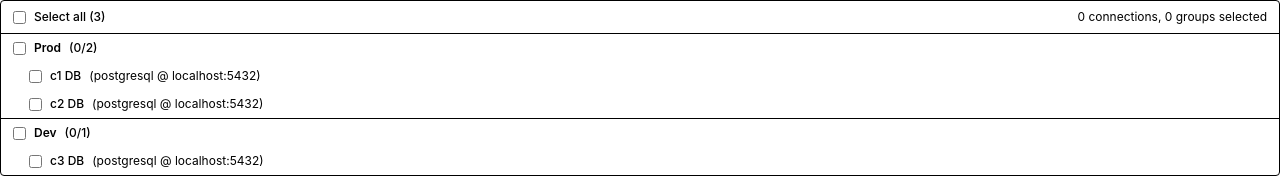
Test: SelectionTree › scenario all-selected: master checkbox checks every connection
What coordinates should you click on to do the following:
click the checkbox labelled "Select all (3)"
I would click on:
 (20, 17)
Its box is [13,10,26,24].
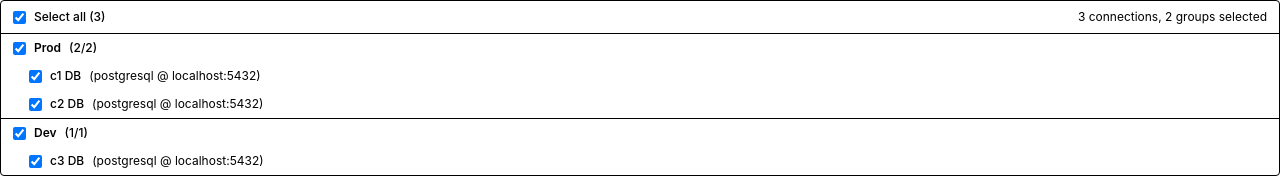
Now the checkbox labelled "Select all (3)" is checked, box [13,10,26,24]
Now the checkbox named "group prod" is checked, box [13,42,26,54]
Now the checkbox named "group dev" is checked, box [13,126,26,140]
